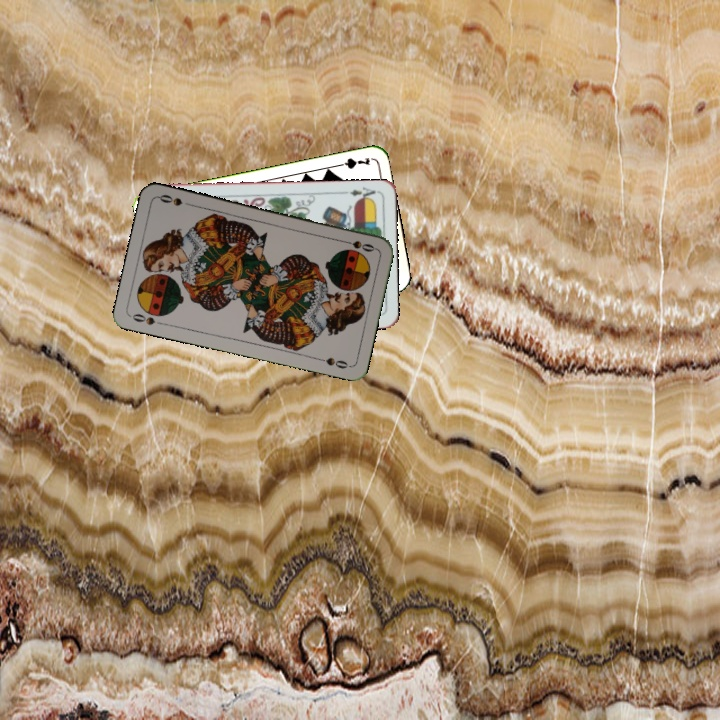EA: (339, 183, 380, 203)
G7: (332, 153, 373, 172)
SO: (338, 236, 378, 254), (128, 310, 168, 328)
